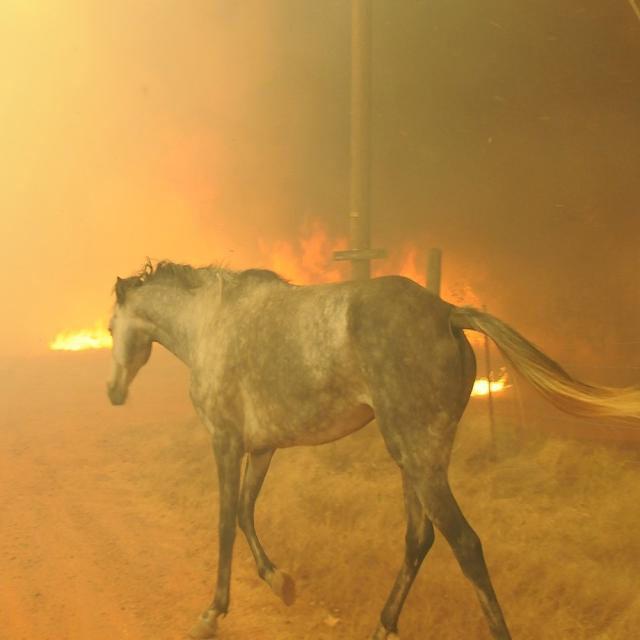Smoke: (49, 327, 115, 348), (467, 374, 511, 400)
